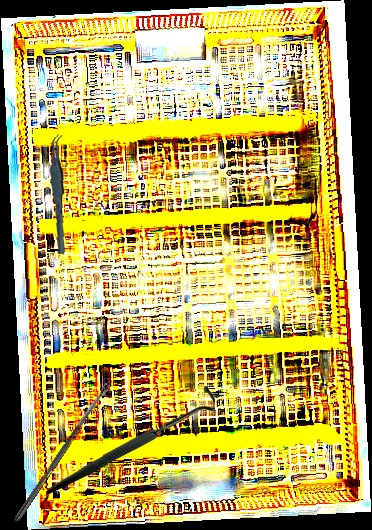Hook Surgical: (46, 385, 217, 495)
Surgical Spoon: (12, 382, 112, 525)
Tissue Forceps: (43, 133, 74, 255)
